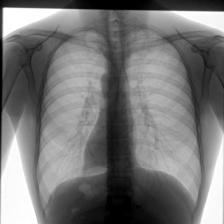tuberculosis: (28, 23, 206, 224)
